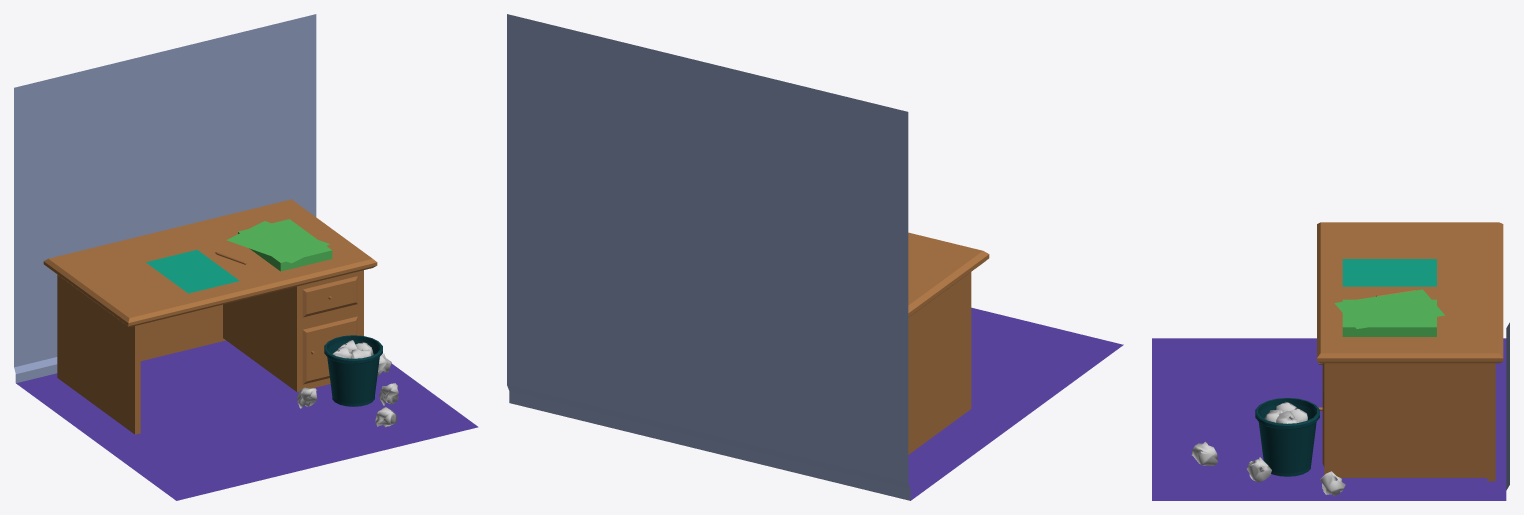
Rendered from Imagination.fbx.
The picture shows the model from 3 angles, left to right: view 1: azimuth 30°, elevation 25°; view 2: azimuth 150°, elevation 25°; view 3: azimuth 270°, elevation 25°; orthographic projection. The views are drawn at different scales.
Parts seen in each view (by area): view 1: Muralla, Escritorio, Piso, Papelero, HojaSuelta, Hoja, TurroDeHojas; view 2: Muralla, Piso, Escritorio; view 3: Escritorio, Piso, Papelero, HojaSuelta, Hoja, TurroDeHojas, Muralla, BadIdea014, BadIdea001, BadIdea.
Part boxes in pixels (bbox=[...]): Muralla: bbox=[14, 14, 316, 383]; Escritorio: bbox=[43, 199, 377, 434]; Piso: bbox=[16, 340, 478, 500]; Papelero: bbox=[324, 335, 382, 406]; HojaSuelta: bbox=[226, 221, 329, 263]; Hoja: bbox=[146, 250, 239, 293]; TurroDeHojas: bbox=[238, 219, 332, 271]; Muralla: bbox=[507, 14, 910, 500]; Piso: bbox=[908, 307, 1123, 500]; Escritorio: bbox=[908, 232, 989, 454]; Escritorio: bbox=[1317, 222, 1503, 481]; Piso: bbox=[1152, 338, 1506, 500]; Papelero: bbox=[1255, 398, 1319, 476]; HojaSuelta: bbox=[1334, 289, 1444, 328]; Hoja: bbox=[1342, 259, 1436, 286]; TurroDeHojas: bbox=[1342, 299, 1436, 336]; Muralla: bbox=[1506, 322, 1509, 490]; BadIdea014: bbox=[1191, 441, 1217, 465]; BadIdea001: bbox=[1246, 457, 1271, 482]; BadIdea: bbox=[1320, 471, 1345, 496].
Bounding box in the file's own units: 103 × 95.95 × 97.54.
